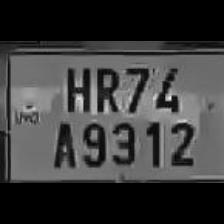1: (139, 115, 165, 167)
2: (164, 115, 196, 167)
3: (107, 116, 137, 166)
4: (150, 61, 184, 113)
7: (120, 62, 150, 112)
9: (78, 115, 106, 167)
A: (48, 115, 76, 169)
H: (59, 61, 91, 113)
R: (90, 61, 120, 113)
